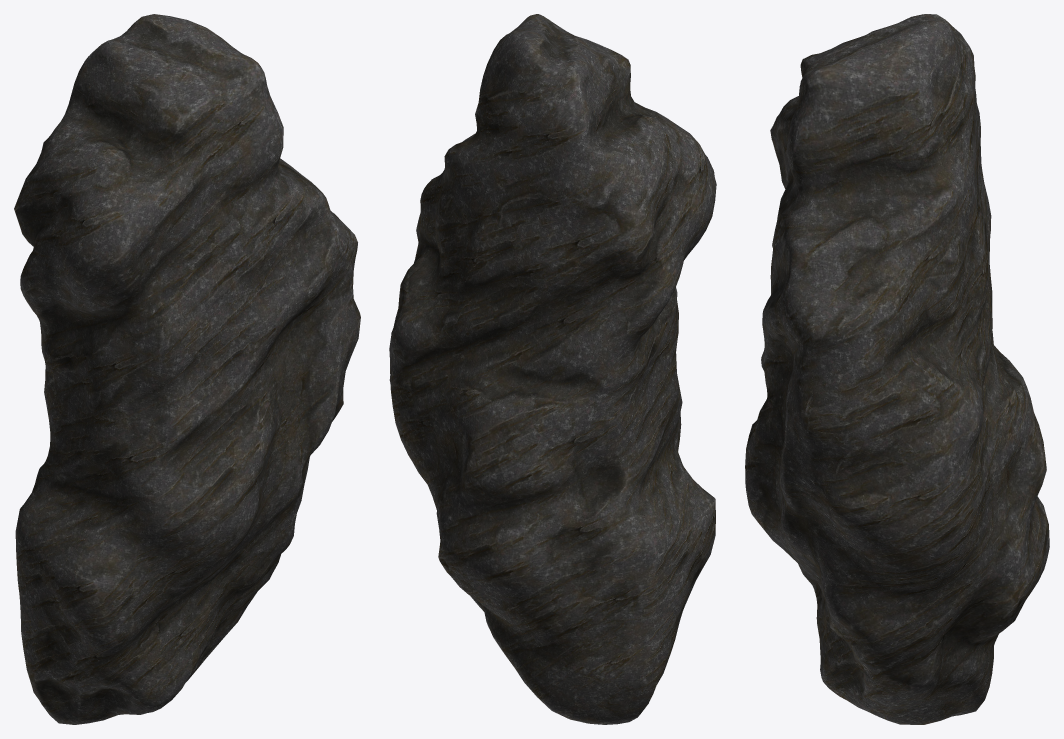
The model's file is set2_rock_10.fbx.
The picture shows the model from 3 angles, left to right: view 1: azimuth 30°, elevation 25°; view 2: azimuth 150°, elevation 25°; view 3: azimuth 270°, elevation 25°; orthographic projection. The views are drawn at different scales.
Parts seen in each view (by area): view 1: set2_rock_10; view 2: set2_rock_10; view 3: set2_rock_10.
Part boxes in pixels (x1=…): set2_rock_10: x1=14, y1=14, x2=360, y2=724; set2_rock_10: x1=389, y1=14, x2=716, y2=724; set2_rock_10: x1=745, y1=14, x2=1049, y2=724.
Size of the model in its own units: 95.84 by 213 by 81.05.
1 material, 1 textured.
